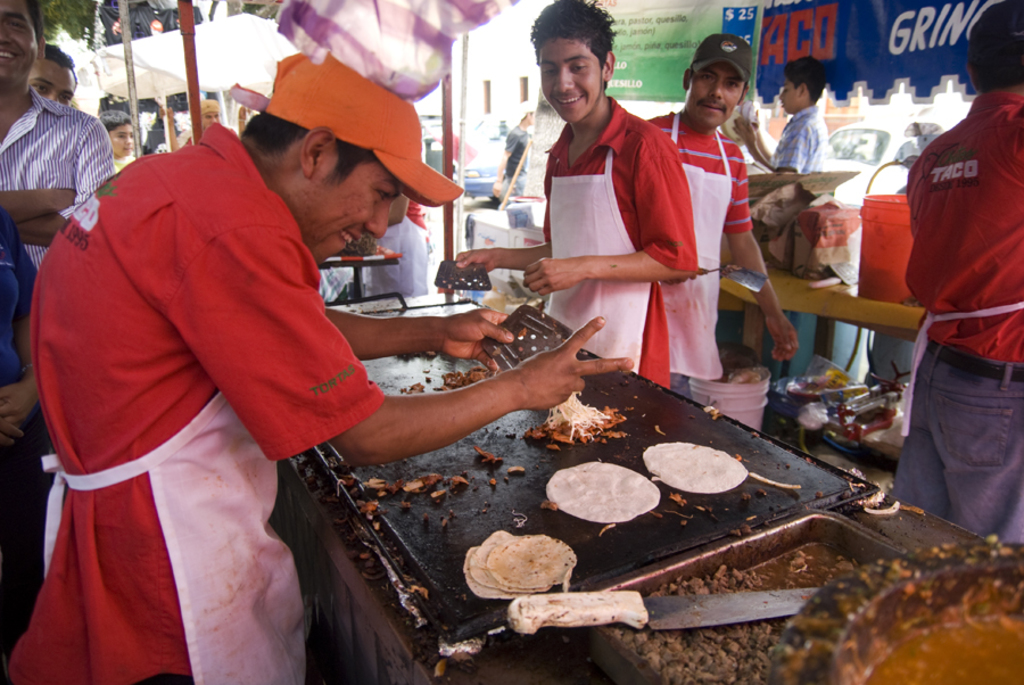Person: (454, 0, 698, 388)
